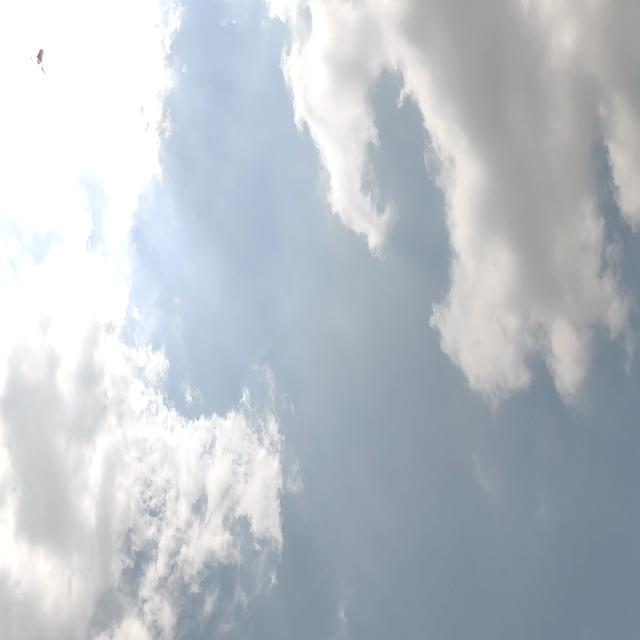drone: (28, 41, 50, 82)
